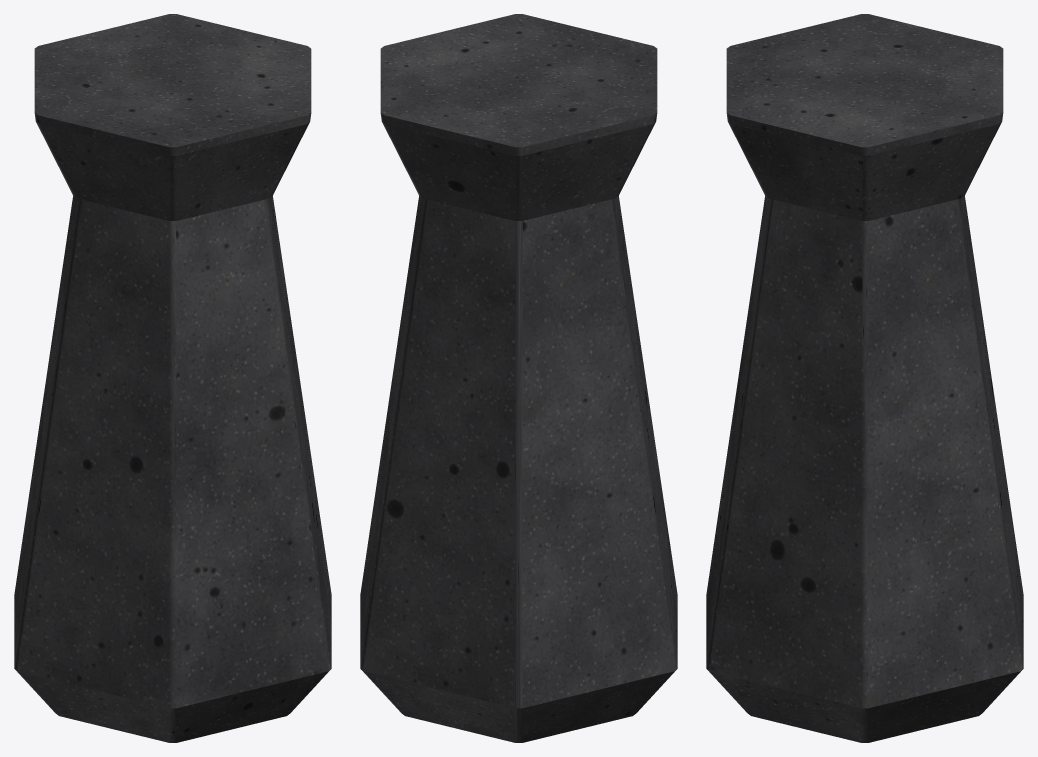
Rendered from rook-black.glb.
3 renders of one model, left to right at view 1: azimuth 30°, elevation 25°; view 2: azimuth 150°, elevation 25°; view 3: azimuth 270°, elevation 25°, orthographic.
Visible parts, largest first — view 1: HEXALITH_black_rook; view 2: HEXALITH_black_rook; view 3: HEXALITH_black_rook.
Boxes of the visible parts, x1,y1,x2,y2 form: HEXALITH_black_rook: [14, 14, 331, 742]; HEXALITH_black_rook: [360, 14, 677, 742]; HEXALITH_black_rook: [706, 14, 1023, 742].
Size of the model in its own units: 0.5418 by 1 by 0.4745.
1 material, 1 textured.
